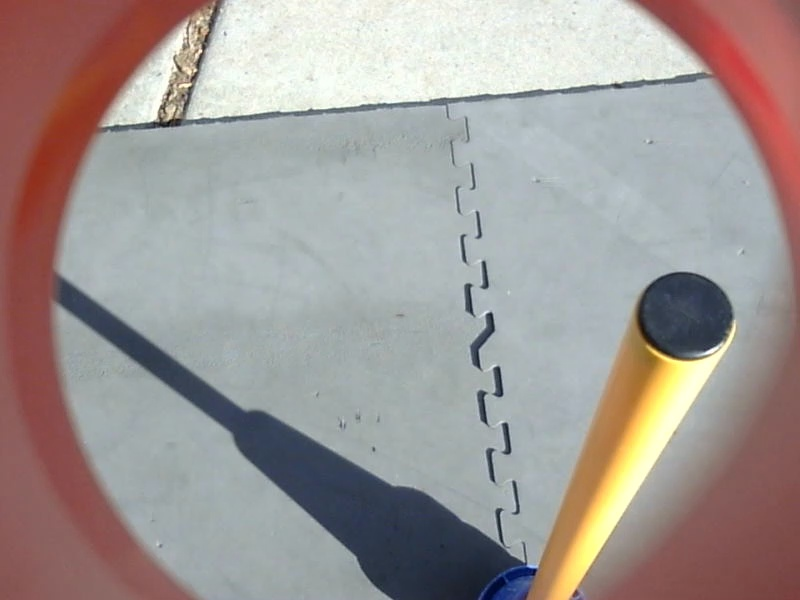tip: (629, 266, 743, 369)
